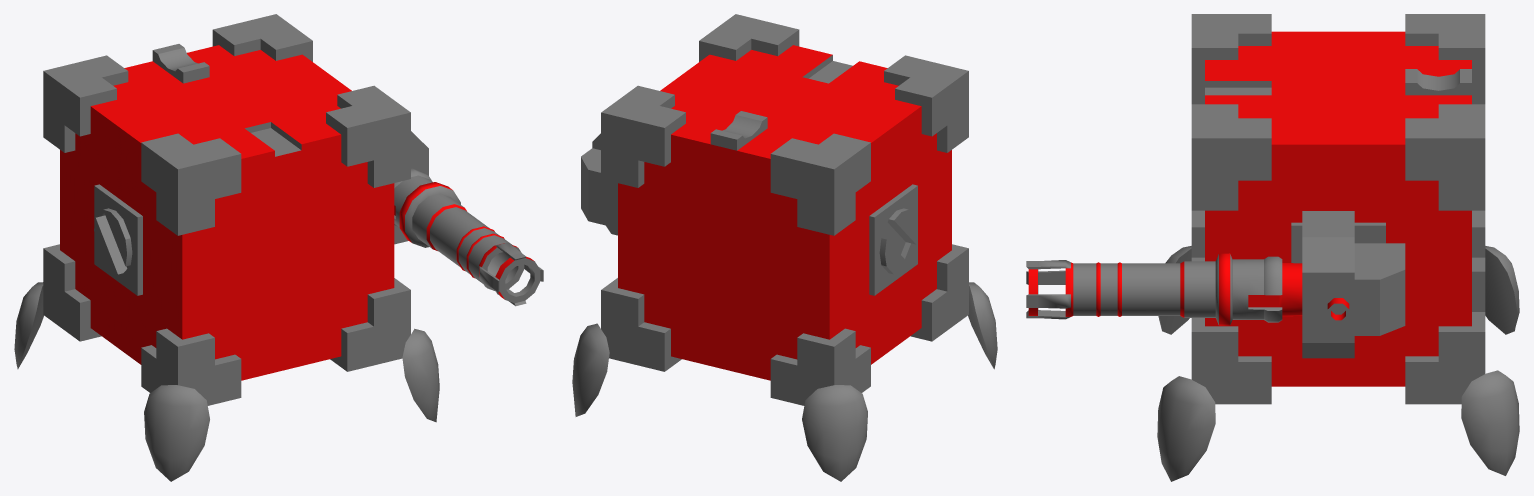
Rendered from TheCube1.obj.
3 views of the same model, side by side, from view 1: azimuth 30°, elevation 25°; view 2: azimuth 150°, elevation 25°; view 3: azimuth 270°, elevation 25° (orthographic). The views are drawn at different scales.
Parts seen in each view (by area): view 1: TheCube, TheCube FlameThrower, TheCube LegShields legShield3, TheCube LegShields legShield, TheCube LegShields legShield2; view 2: TheCube, TheCube LegShields legShield2, TheCube legShield1 LegShields, TheCube FlameThrower, TheCube LegShields legShield3; view 3: TheCube, TheCube FlameThrower, TheCube legShield1 LegShields, TheCube LegShields legShield, TheCube LegShields legShield2, TheCube LegShields legShield3.
Boxes of the visible parts, box(x1,y1,x2,y2) form: TheCube: box(43, 14, 410, 405); TheCube FlameThrower: box(394, 131, 543, 306); TheCube LegShields legShield3: box(144, 385, 209, 481); TheCube LegShields legShield: box(402, 328, 439, 422); TheCube LegShields legShield2: box(14, 282, 43, 369); TheCube: box(601, 14, 968, 405); TheCube LegShields legShield2: box(802, 385, 867, 481); TheCube legShield1 LegShields: box(572, 323, 609, 416); TheCube FlameThrower: box(581, 133, 617, 235); TheCube LegShields legShield3: box(968, 282, 997, 369); TheCube: box(1191, 14, 1485, 404); TheCube FlameThrower: box(1026, 211, 1405, 358); TheCube legShield1 LegShields: box(1461, 370, 1519, 475); TheCube LegShields legShield: box(1157, 376, 1215, 481); TheCube LegShields legShield2: box(1485, 246, 1519, 334); TheCube LegShields legShield3: box(1158, 246, 1191, 334).
Bounding box in the file's own units: 16.03 × 13.85 × 18.47.
